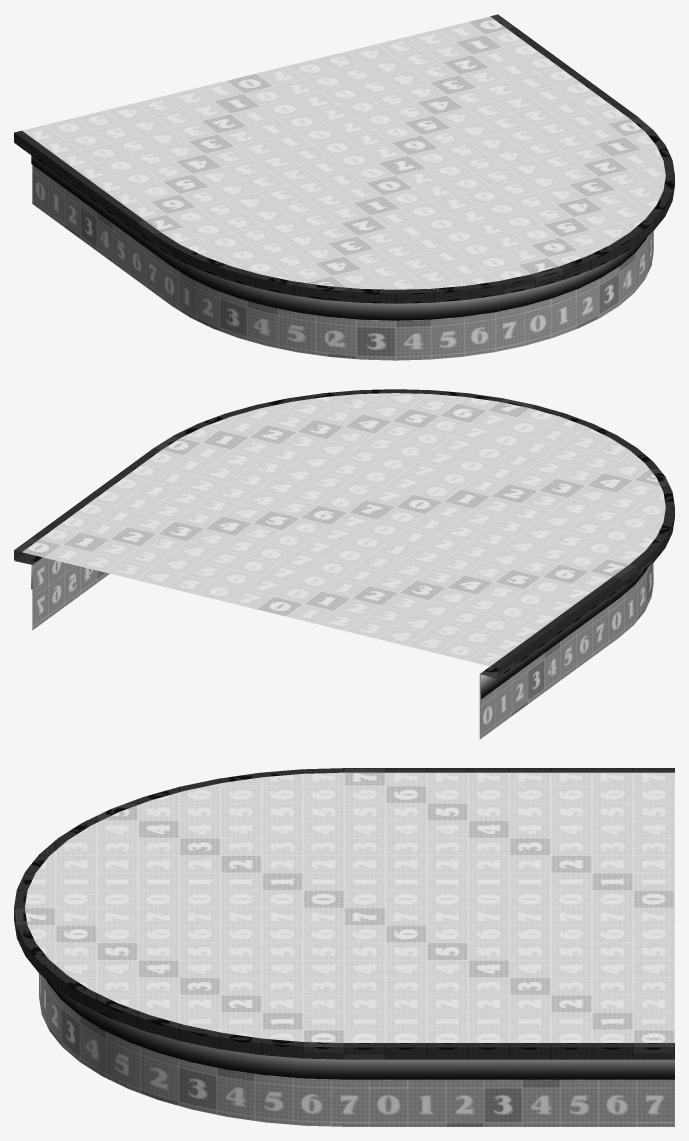
File: Podium02_2.FBX
3 views of the same model, one above another, from view 1: azimuth 30°, elevation 25°; view 2: azimuth 150°, elevation 25°; view 3: azimuth 270°, elevation 25° (orthographic). The views are drawn at different scales.
Parts seen in each view (by area): view 1: Podium, Backlight; view 2: Podium, Backlight; view 3: Podium, Backlight.
Boxes of the visible parts, x1,y1,x2,y2 form: Podium: (14,14,674,360); Backlight: (31,155,647,320); Podium: (14,389,674,739); Backlight: (15,561,647,699); Podium: (14,768,674,1126); Backlight: (46,979,674,1079).
Bounding box in the file's own units: 501 × 75 × 500.
